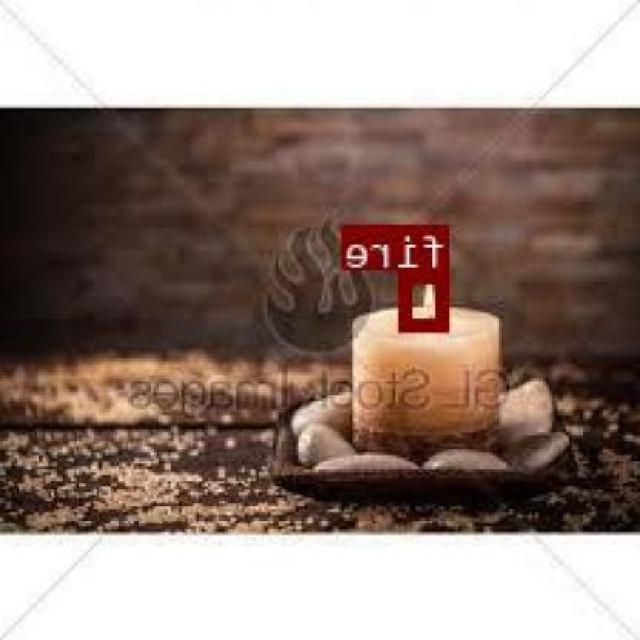fire: (404, 268, 450, 327)
